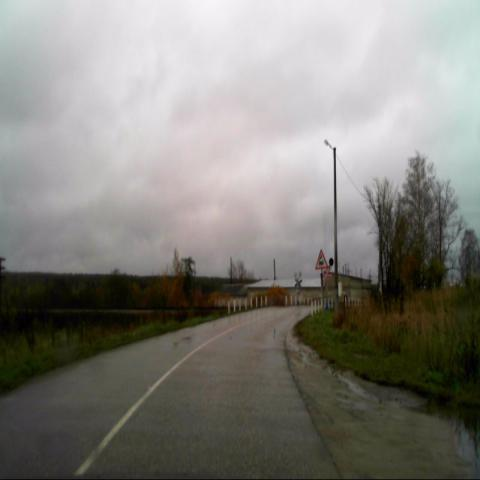1_2: (315, 250, 327, 270)
